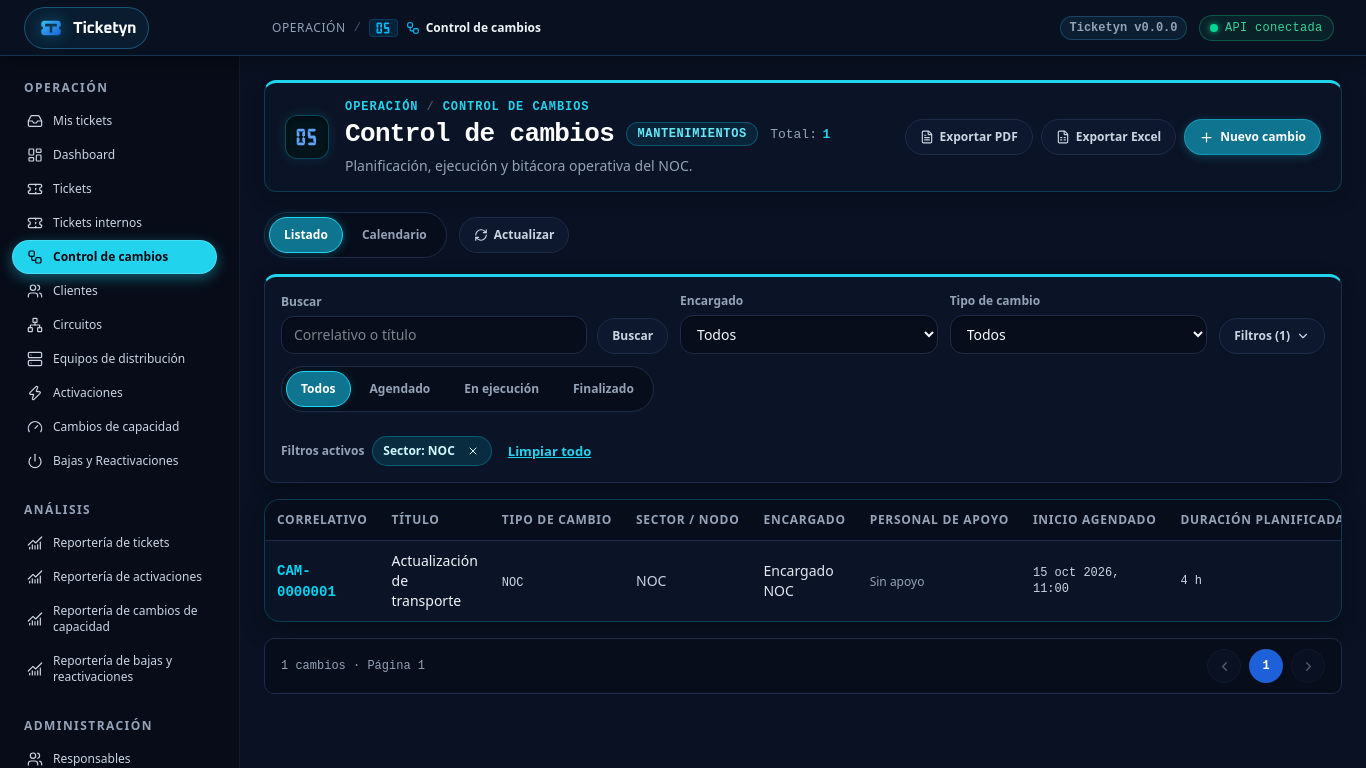
Control de cambios › conserva filtros al cambiar a calendario y permite navegar años
The image size is (1366, 768).
Check: the table named "Control de cambios" is shown, box [265,500,1342,621]
Step 1. Click the button "Calendario" → (394, 235), box [347,217,442,253]
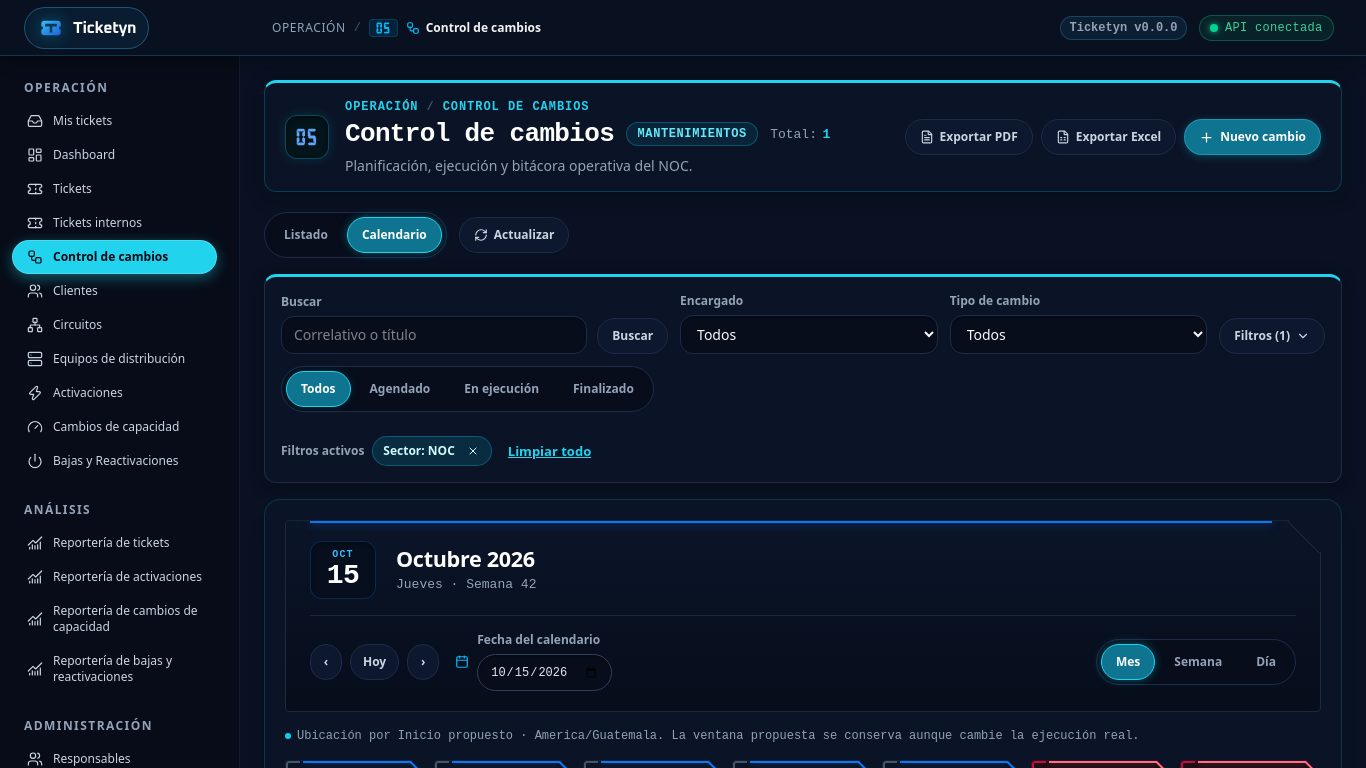
Step 2. Type "2035-01-15" into the date field labelled "Fecha del calendario" → (545, 673), box [477,654,612,691]
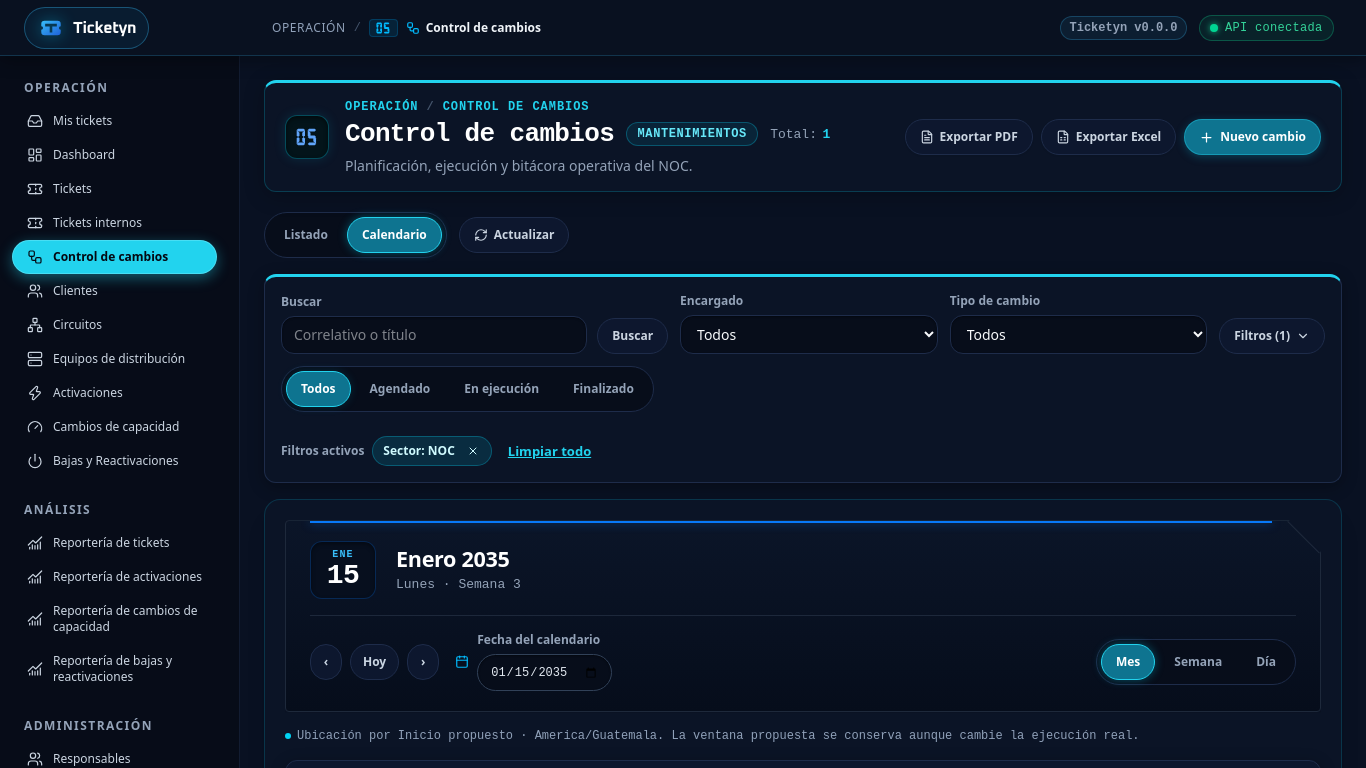
Step 3. Click the button "Listado" → (306, 235), box [269,217,343,253]
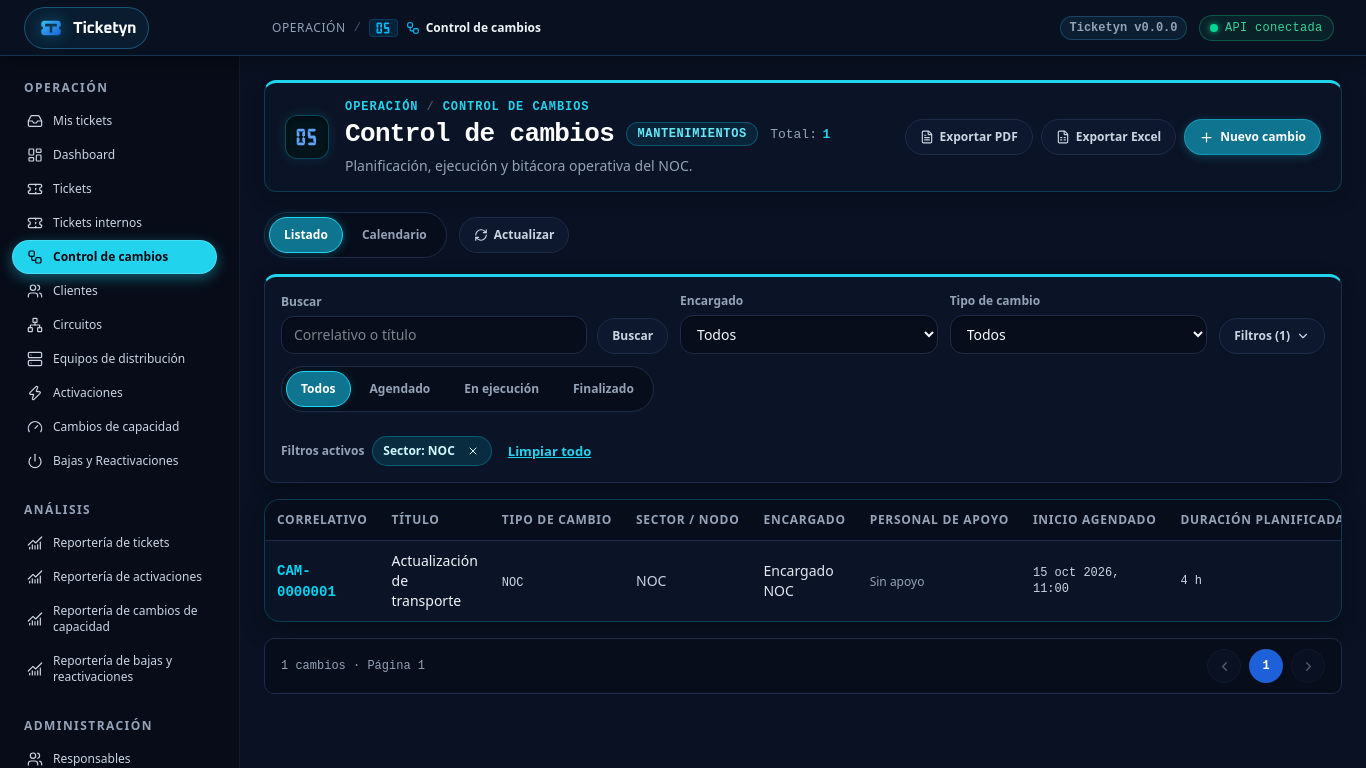
Check: the table named "Control de cambios" is shown, box [265,500,1342,621]
